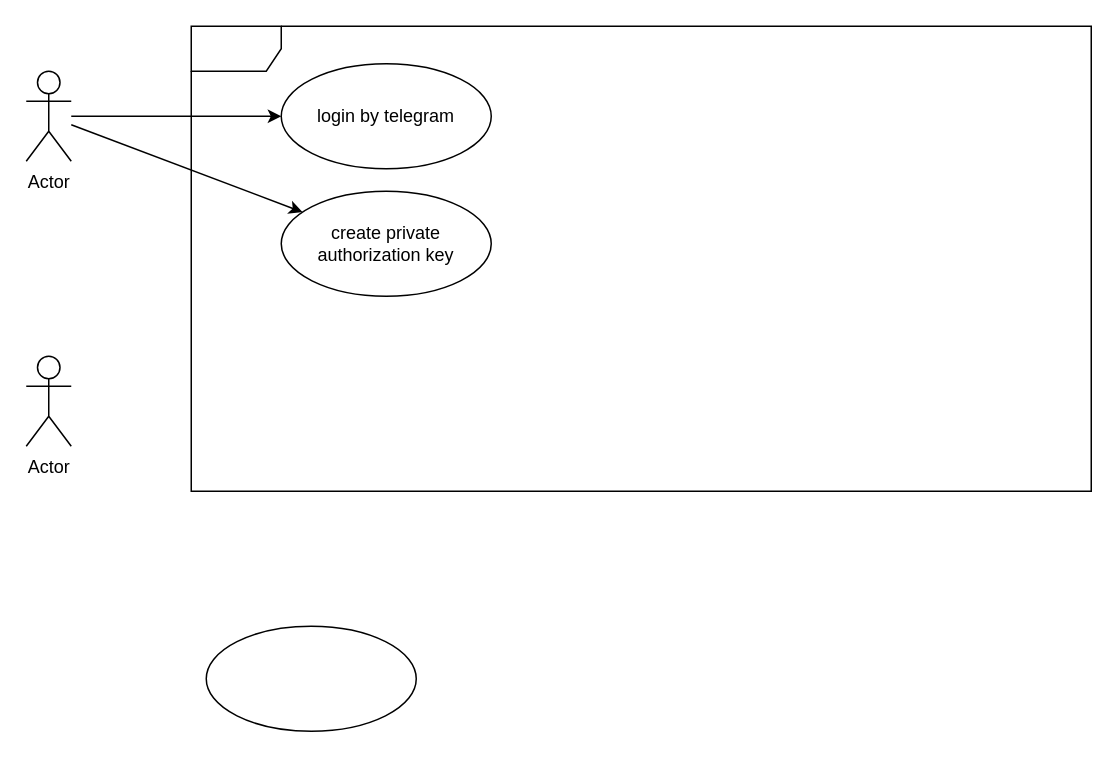
The diagram is 1118 pixels wide and 758 high, and some of its shapes have lost their labels. The shapes that lost their labels are listed below. From the top down, each one's box as (x1, y1, x2, y2) in pixels, then its label:
(190, 25, 1091, 491): account management
(205, 625, 416, 731): Use Case
